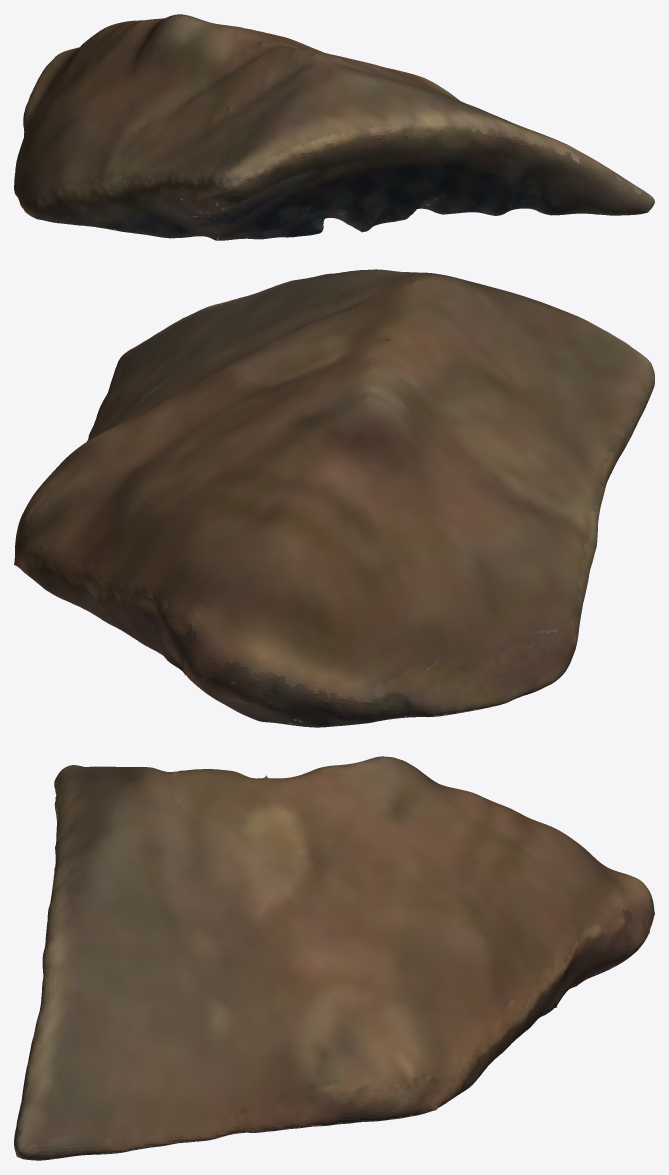
Rendered from Artifact-Cje-Moche.fbx.
The picture shows the model from 3 angles, top to bottom: view 1: azimuth 30°, elevation 25°; view 2: azimuth 150°, elevation 25°; view 3: azimuth 270°, elevation 25°; orthographic projection. The views are drawn at different scales.
Parts seen in each view (by area): view 1: model_New Qlone_20191017_174936885; view 2: model_New Qlone_20191017_174936885; view 3: model_New Qlone_20191017_174936885.
Part boxes in pixels (x1,y1,x2,y2): model_New Qlone_20191017_174936885: [14, 14, 654, 240]; model_New Qlone_20191017_174936885: [14, 269, 654, 727]; model_New Qlone_20191017_174936885: [14, 756, 654, 1160].
Bounding box in the file's own units: 7166 × 2655 × 6724.
1 material, 1 textured.
